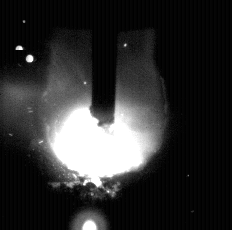arame: (92, 0, 117, 127)
poca: (42, 0, 164, 230)
